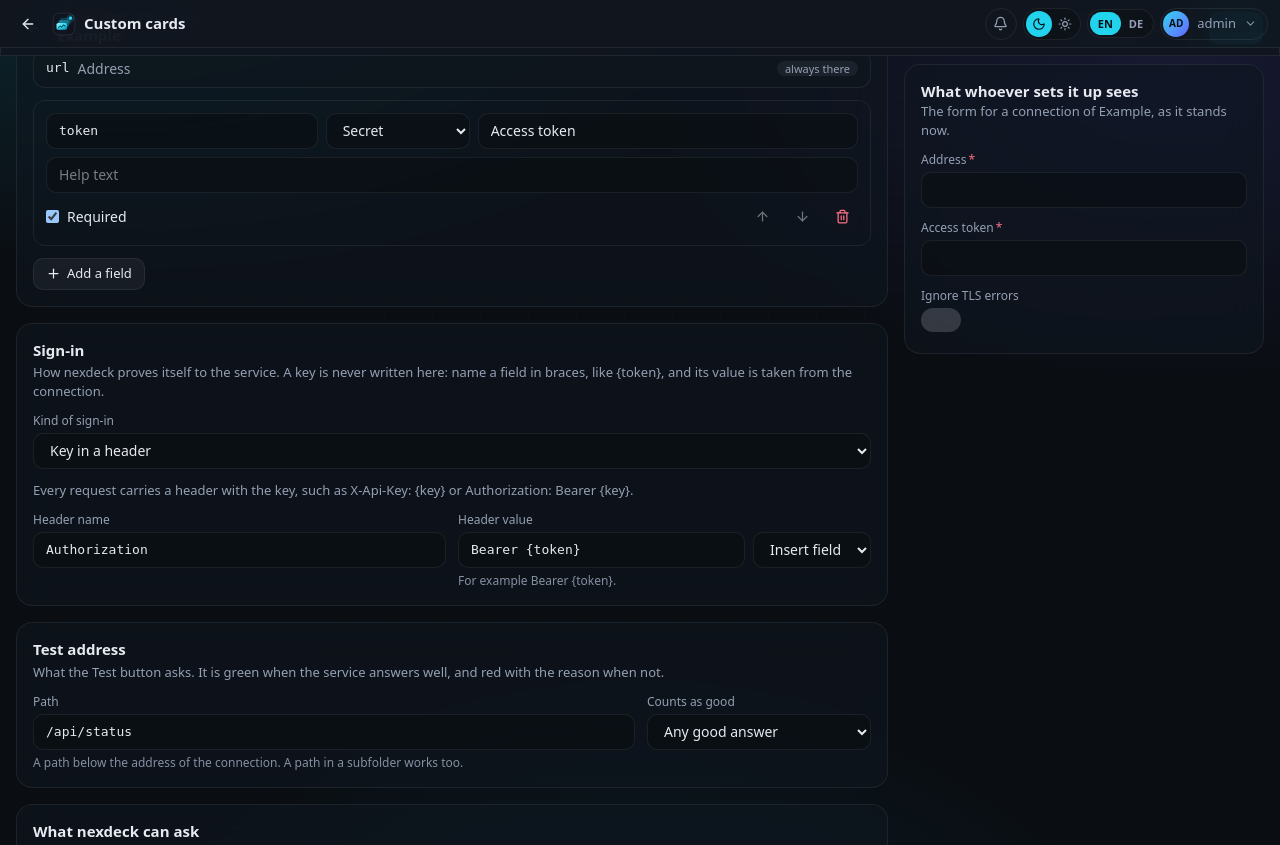
Test: the sign-in › karten3 ac4: user and password go as two placeholders
(page scrolled)
Select "User and password" in the dropdown labelled "Kind of sign-in" at (452, 451), box [33,433,871,469]
(page scrolled)
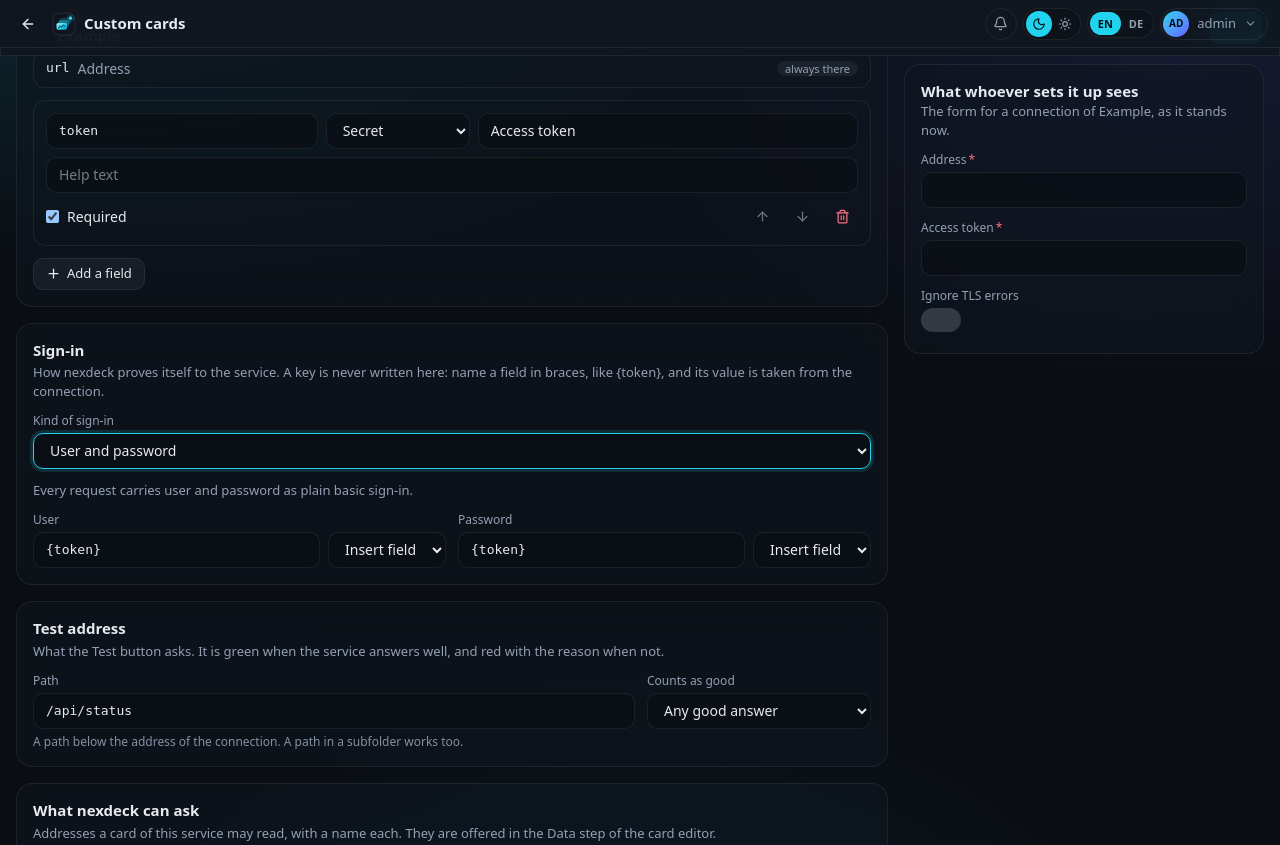
Check: the text with test id "integration-auth-explained" shows "plain basic sign-in", box [33,481,413,499]
Check: the field labelled "User" is shown, box [33,532,320,568]
Check: the field labelled "Password" is shown, box [458,532,745,568]
